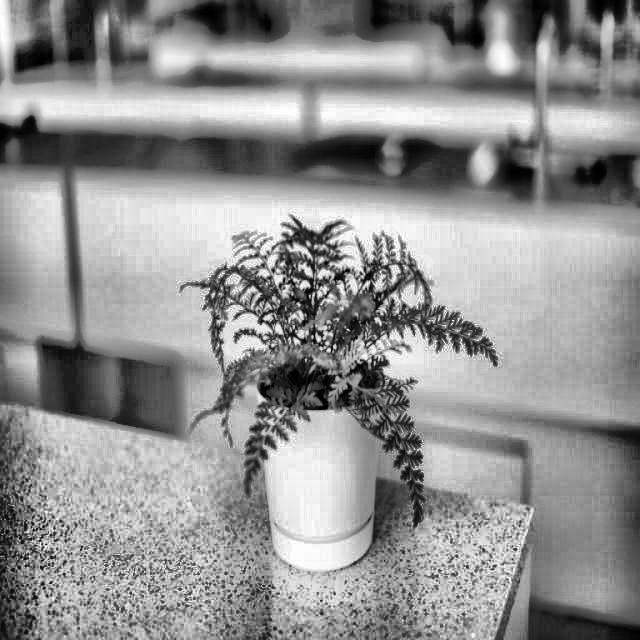plants: (197, 214, 487, 576)
